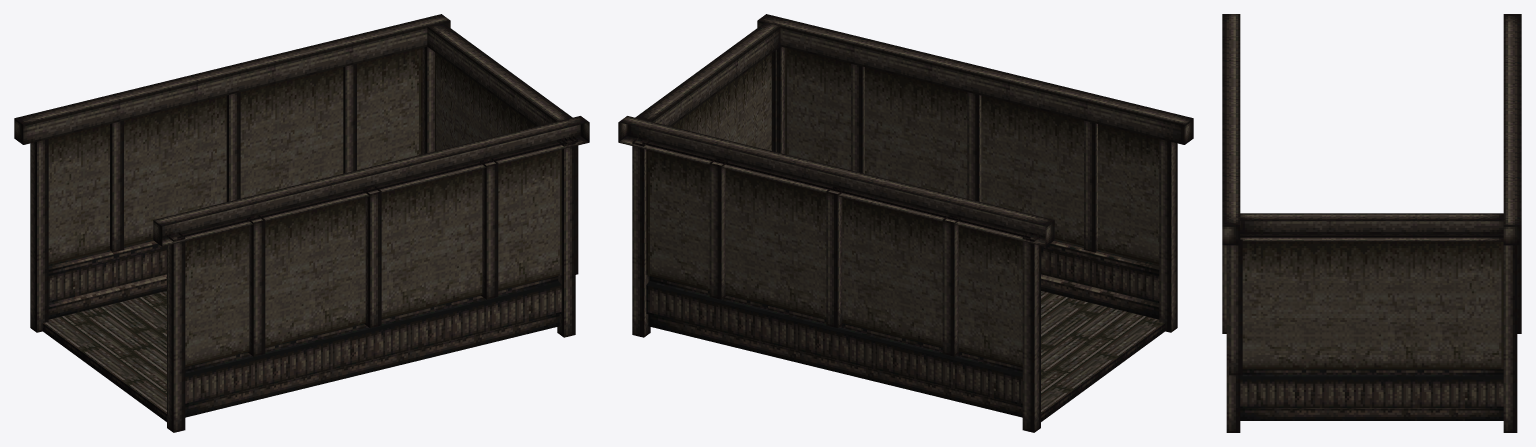
Rendered from EnvBdgMD_WoodHouse_A_Indoor_House_F_L.FBX.
The picture shows the model from 3 angles, left to right: view 1: azimuth 30°, elevation 25°; view 2: azimuth 150°, elevation 25°; view 3: azimuth 270°, elevation 25°; orthographic projection.
Parts seen in each view (by area): view 1: EnvBdgMD_WoodHouse_A_Indoor_House_F_L; view 2: EnvBdgMD_WoodHouse_A_Indoor_House_F_L; view 3: EnvBdgMD_WoodHouse_A_Indoor_House_F_L.
Boxes of the visible parts, bbox=[...] form: EnvBdgMD_WoodHouse_A_Indoor_House_F_L: bbox=[14, 14, 589, 432]; EnvBdgMD_WoodHouse_A_Indoor_House_F_L: bbox=[618, 14, 1193, 432]; EnvBdgMD_WoodHouse_A_Indoor_House_F_L: bbox=[1222, 14, 1521, 432].
Size of the model in its own units: 1100 by 520 by 660.
Materials: 1 (1 with a texture image).
